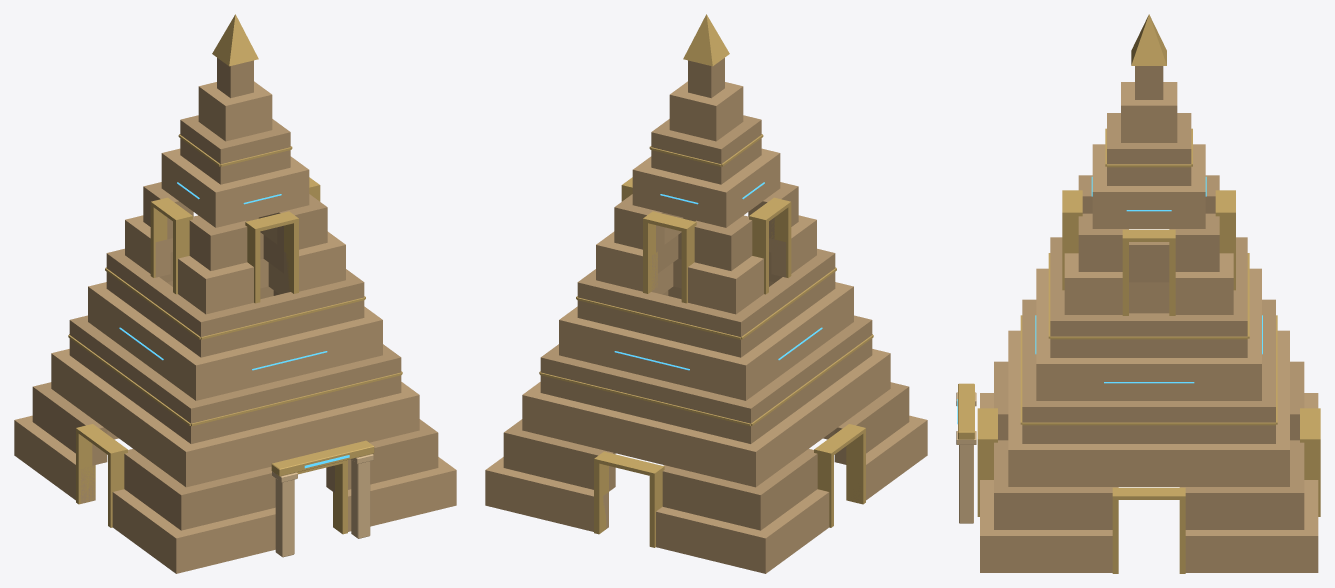
The model's file is 02_sun_king_exterior.glb.
3 renders of one model, left to right at view 1: azimuth 30°, elevation 25°; view 2: azimuth 150°, elevation 25°; view 3: azimuth 270°, elevation 25°, orthographic. The views are drawn at different scales.
Parts seen in each view (by area): view 1: king_steps_nocol, king_frames_nocol, king_gateway, king_trim_nocol_noshadow, king_gateway_lintel, king_cap_nocol; view 2: king_steps_nocol, king_frames_nocol, king_trim_nocol_noshadow, king_cap_nocol; view 3: king_steps_nocol, king_frames_nocol, king_trim_nocol_noshadow, king_gateway, king_cap_nocol, king_gateway_lintel, king_runes_nocol_noshadow.
Boxes of the visible parts, bbox=[...] form: king_steps_nocol: bbox=[14, 58, 456, 573]; king_frames_nocol: bbox=[76, 177, 347, 534]; king_gateway: bbox=[272, 454, 373, 557]; king_trim_nocol_noshadow: bbox=[68, 134, 402, 426]; king_gateway_lintel: bbox=[271, 440, 374, 476]; king_cap_nocol: bbox=[212, 14, 258, 66]; king_steps_nocol: bbox=[485, 58, 927, 573]; king_frames_nocol: bbox=[594, 177, 865, 547]; king_trim_nocol_noshadow: bbox=[539, 134, 873, 426]; king_cap_nocol: bbox=[683, 14, 729, 66]; king_steps_nocol: bbox=[980, 66, 1318, 572]; king_frames_nocol: bbox=[977, 190, 1320, 573]; king_trim_nocol_noshadow: bbox=[1020, 128, 1277, 425]; king_gateway: bbox=[956, 392, 976, 523]; king_cap_nocol: bbox=[1131, 14, 1166, 65]; king_gateway_lintel: bbox=[958, 383, 974, 439]; king_runes_nocol_noshadow: bbox=[1035, 176, 1262, 383].
Size of what is drawn, in the model's own units: 101 by 159 by 108.
